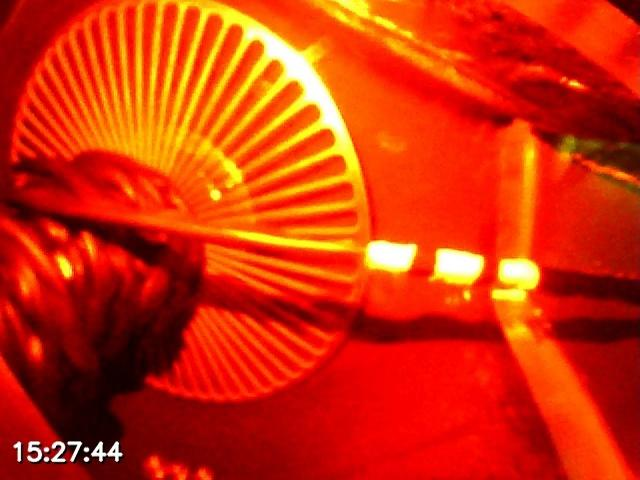white-dots: (364, 240, 540, 289)
